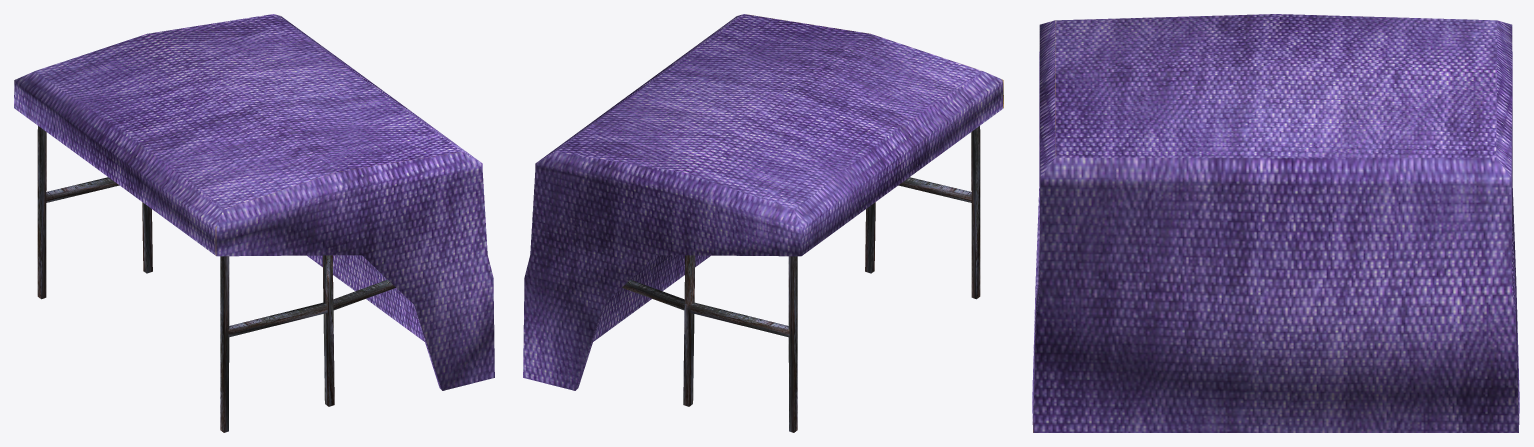
The model's file is canopy2.obj.
The picture shows the model from 3 angles, left to right: view 1: azimuth 30°, elevation 25°; view 2: azimuth 150°, elevation 25°; view 3: azimuth 270°, elevation 25°; orthographic projection. The views are drawn at different scales.
Size of the model in its own units: 102 by 83.09 by 130.
